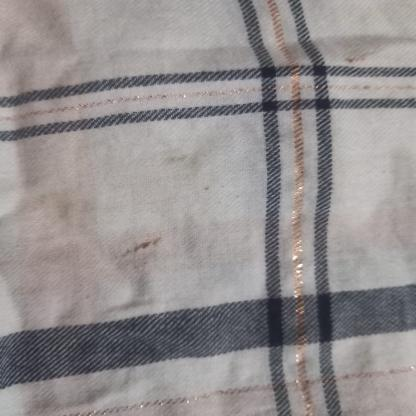spot: (114, 224, 159, 260), (199, 183, 240, 209)
